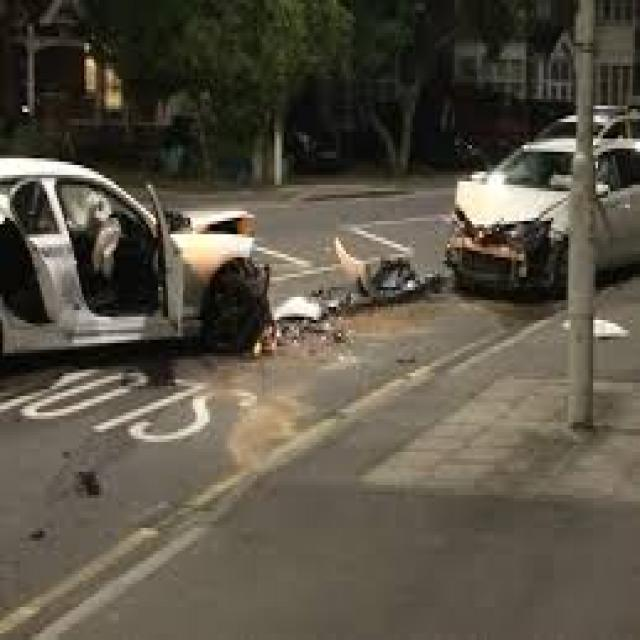accident: (0, 139, 287, 393), (418, 118, 628, 310)
